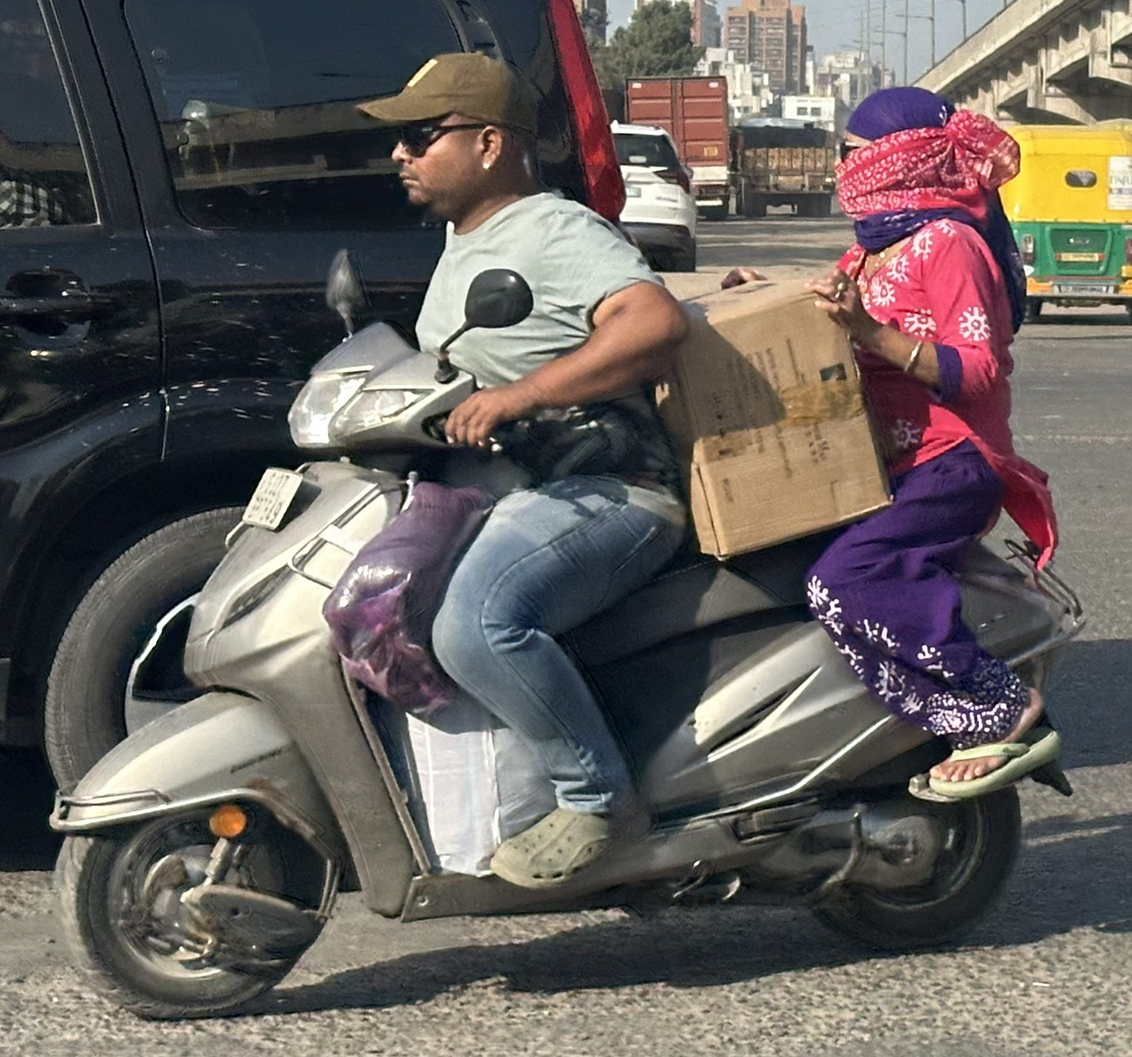BikeWithRider: (36, 25, 1096, 1041)
NoHelmet: (346, 39, 550, 233), (820, 69, 994, 246)
